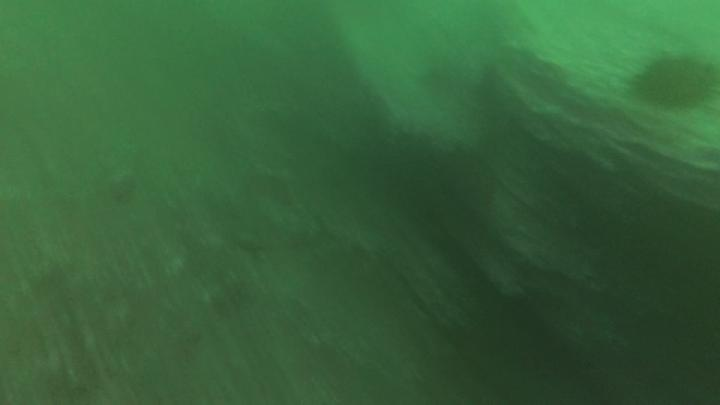echinus: (622, 49, 720, 114)
